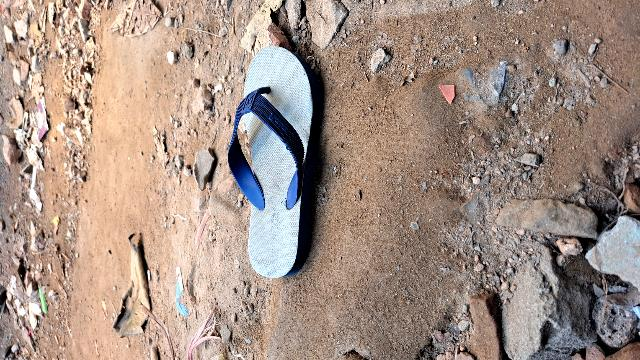sandal: (229, 51, 323, 276)
